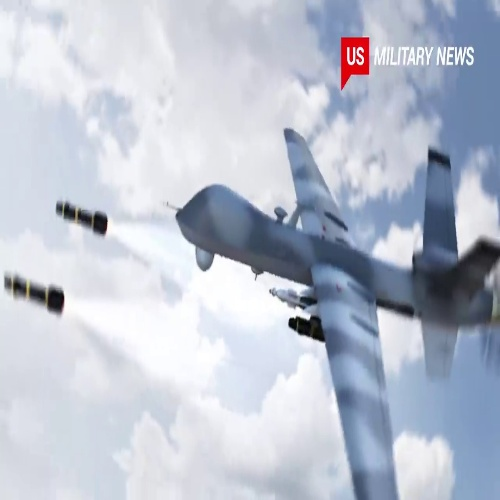uav: (162, 121, 496, 500)
